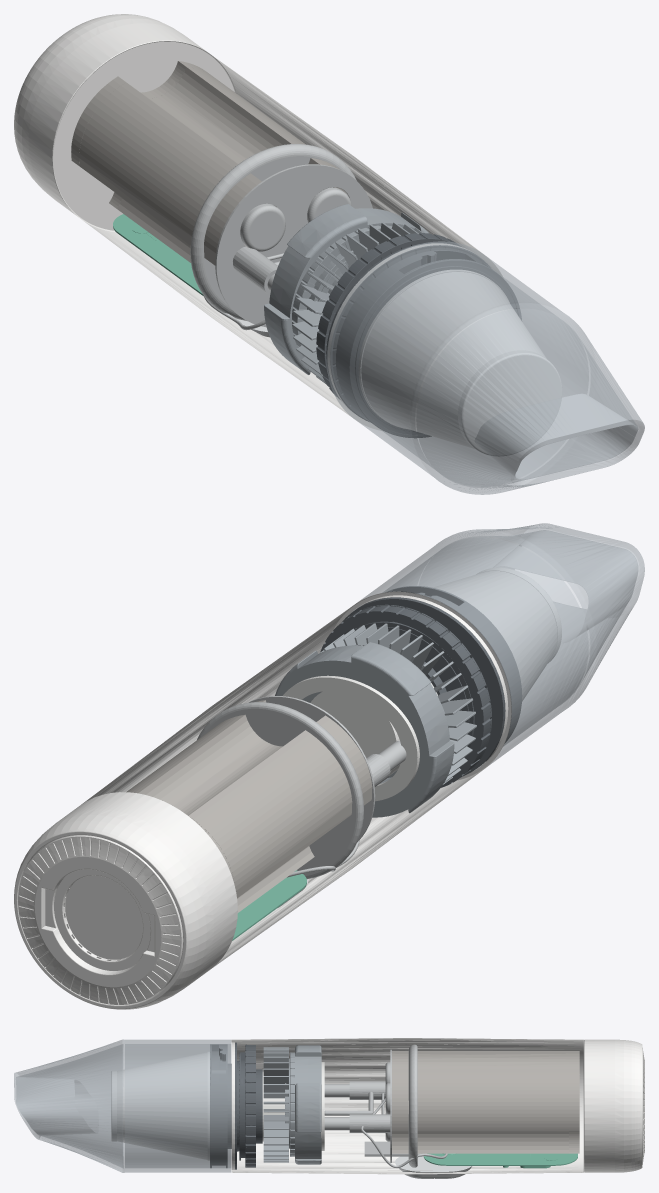
The model's file is vacuum_main.glb.
3 views of the same model, one above another, from view 1: azimuth 30°, elevation 25°; view 2: azimuth 150°, elevation 25°; view 3: azimuth 270°, elevation 25° (orthographic). The views are drawn at different scales.
Visible parts, largest first — view 1: transparent_nozzle, separator_grid, battery, bottom_cap, motor, filter_seals, impeller, body_shell, pcb; view 2: bottom_cap, transparent_nozzle, battery, impeller, filter_seals, body_shell, motor, separator_grid, filter_core, pcb; view 3: transparent_nozzle, battery, body_shell, separator_grid, bottom_cap, impeller, filter_seals, motor, pcb, controls, filter_core.
Boxes of the visible parts, left/top/right/bottom form: transparent_nozzle: left=326, top=241, right=644, bottom=494; separator_grid: left=359, top=270, right=561, bottom=455; battery: left=71, top=61, right=346, bottom=265; bottom_cap: left=14, top=14, right=234, bottom=230; motor: left=190, top=144, right=372, bottom=330; filter_seals: left=316, top=233, right=521, bottom=437; impeller: left=264, top=204, right=428, bottom=384; body_shell: left=53, top=41, right=502, bottom=430; pcb: left=113, top=214, right=203, bottom=296; bottom_cap: left=14, top=792, right=237, bottom=1009; transparent_nozzle: left=354, top=523, right=644, bottom=769; battery: left=126, top=700, right=372, bottom=912; impeller: left=275, top=623, right=476, bottom=817; filter_seals: left=320, top=586, right=521, bottom=787; body_shell: left=81, top=591, right=511, bottom=968; motor: left=197, top=696, right=406, bottom=879; separator_grid: left=433, top=568, right=561, bottom=701; filter_core: left=283, top=675, right=437, bottom=801; pcb: left=232, top=870, right=306, bottom=940; transparent_nozzle: left=14, top=1039, right=231, bottom=1172; battery: left=392, top=1051, right=579, bottom=1153; body_shell: left=231, top=1038, right=583, bottom=1174; separator_grid: left=111, top=1052, right=209, bottom=1160; bottom_cap: left=584, top=1039, right=644, bottom=1172; impeller: left=263, top=1045, right=321, bottom=1164; filter_seals: left=210, top=1042, right=262, bottom=1169; motor: left=324, top=1044, right=447, bottom=1167; pcb: left=423, top=1153, right=577, bottom=1168; controls: left=395, top=1156, right=471, bottom=1178; filter_core: left=262, top=1062, right=324, bottom=1150.
Bounding box in the file's own units: 22.51 × 22.55 × 101.
